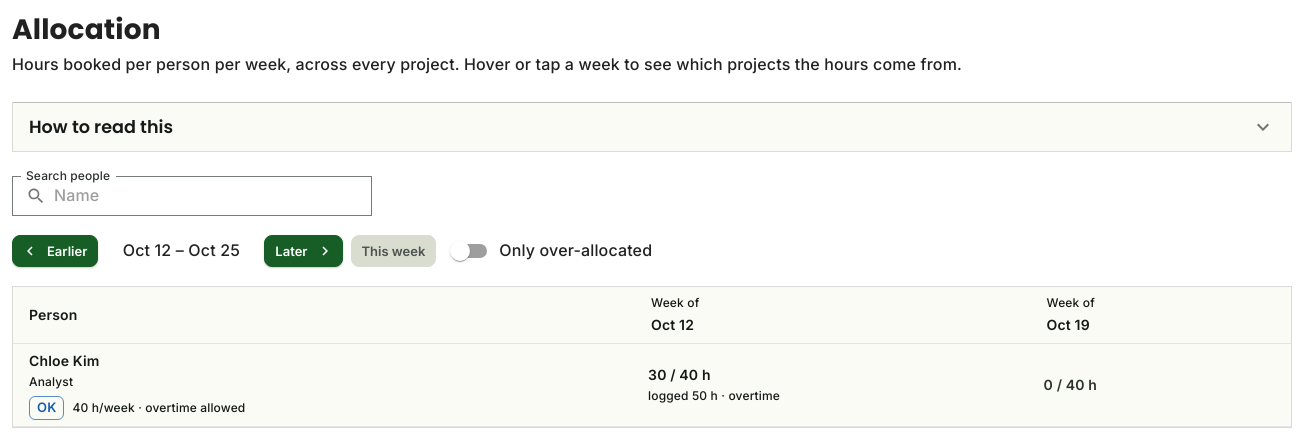
Scenario: AllocationPage › treats a week with nobody over capacity as good news
Expected: the row "Chloe Kim" is shown, [13,343,1291,427]
Click the switch labelled "Only over-allocated". click: (551, 251)
box: [450,240,652,261]
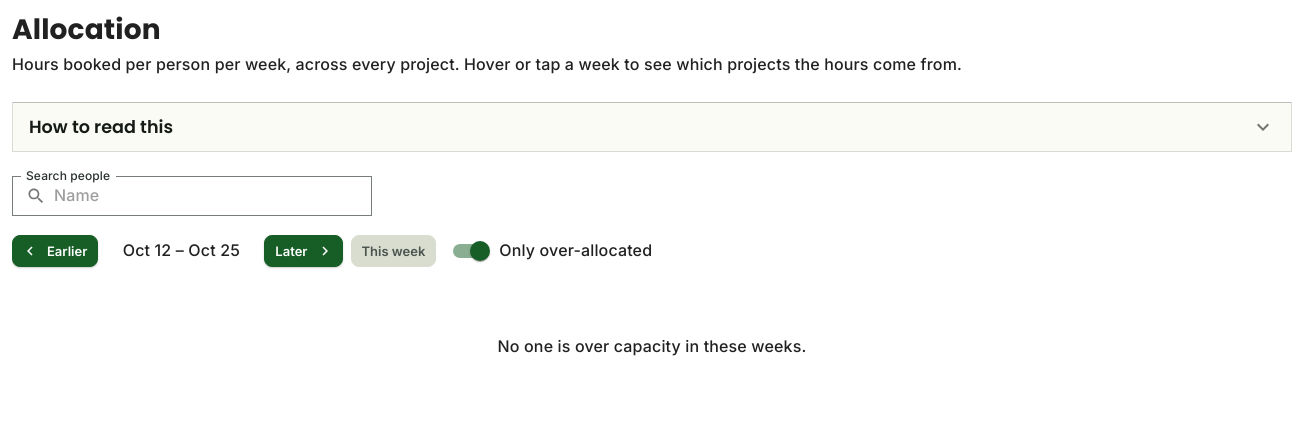
Expected: the text "No one is over capacity in these weeks." is shown, [498,336,806,356]
